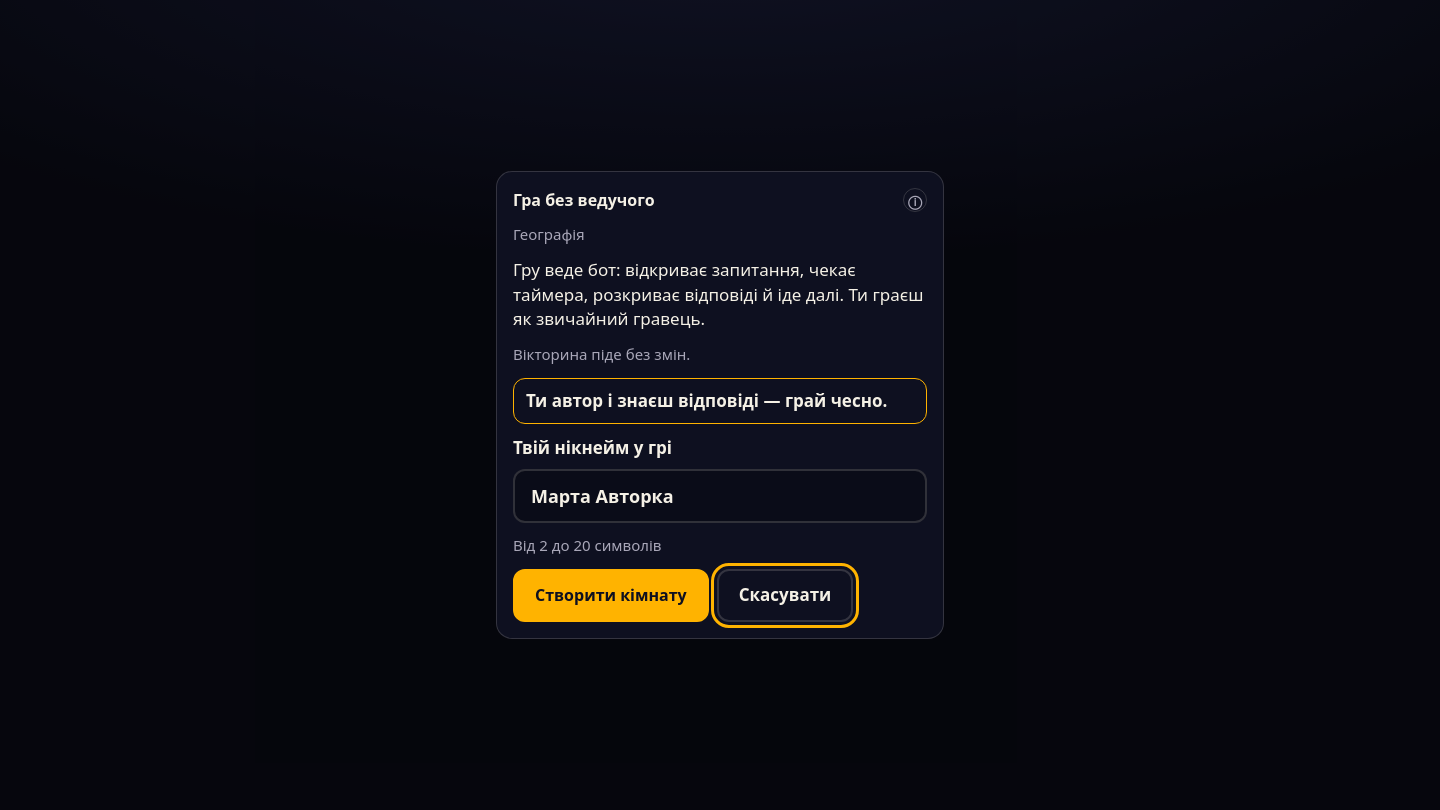
Test: AutopilotLaunch › shows the server error and stays
Click the button "Створити кімнату" at (611, 595), box [513,569,709,622]
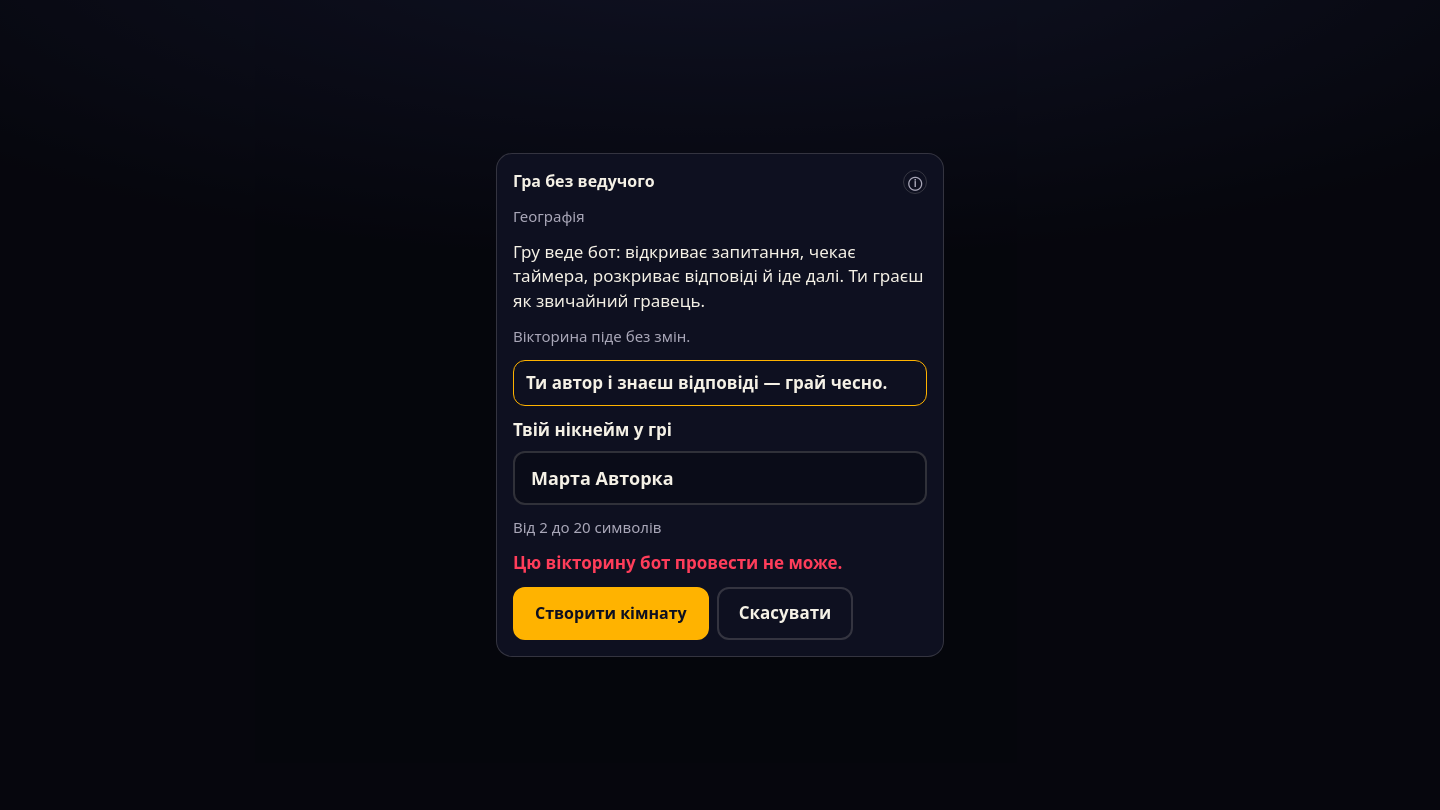
Expected: the message reads "Цю вікторину бот провести не може.", [513,551,842,574]
